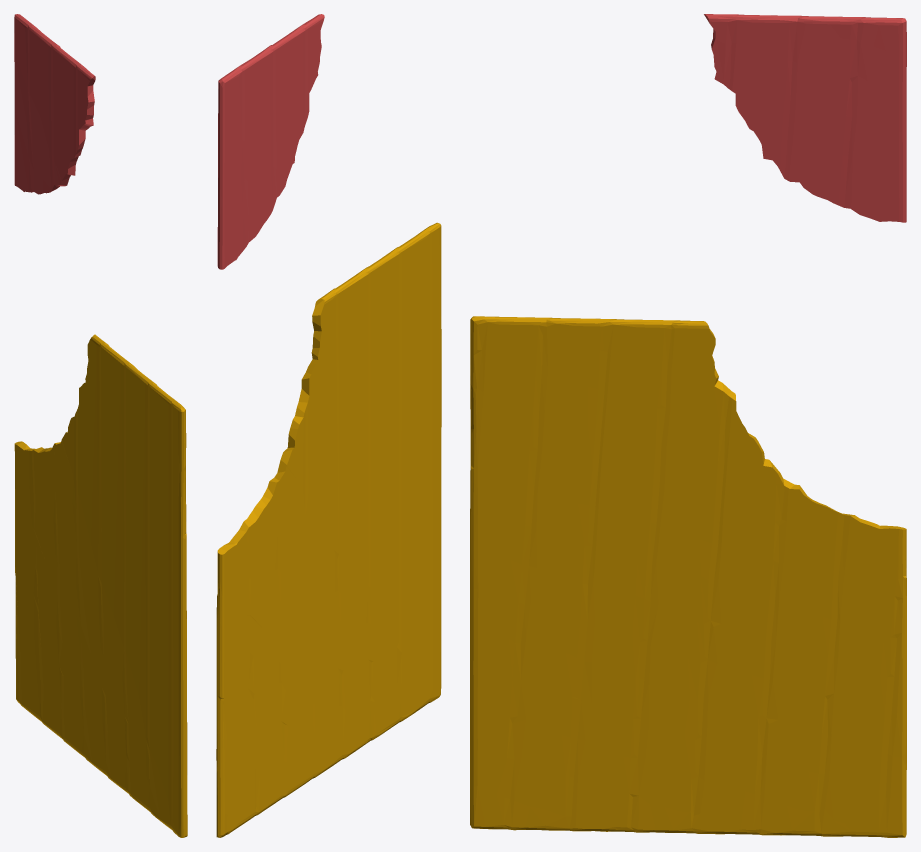
The model's file is fractured_41_2pcs_transformed.glb.
The picture shows the model from 3 angles, left to right: view 1: azimuth 30°, elevation 25°; view 2: azimuth 150°, elevation 25°; view 3: azimuth 270°, elevation 25°; orthographic projection. The views are drawn at different scales.
Parts seen in each view (by area): view 1: piece_0.obj, piece_1.obj; view 2: piece_0.obj, piece_1.obj; view 3: piece_0.obj, piece_1.obj.
Boxes of the visible parts, x1,y1,x2,y2 form: piece_0.obj: (14,334,187,837); piece_1.obj: (14,14,95,194); piece_0.obj: (216,222,441,837); piece_1.obj: (217,14,324,269); piece_0.obj: (470,316,906,837); piece_1.obj: (704,14,906,222).
Size of the model in its own units: 0.0563 by 1.6 by 0.7737.
